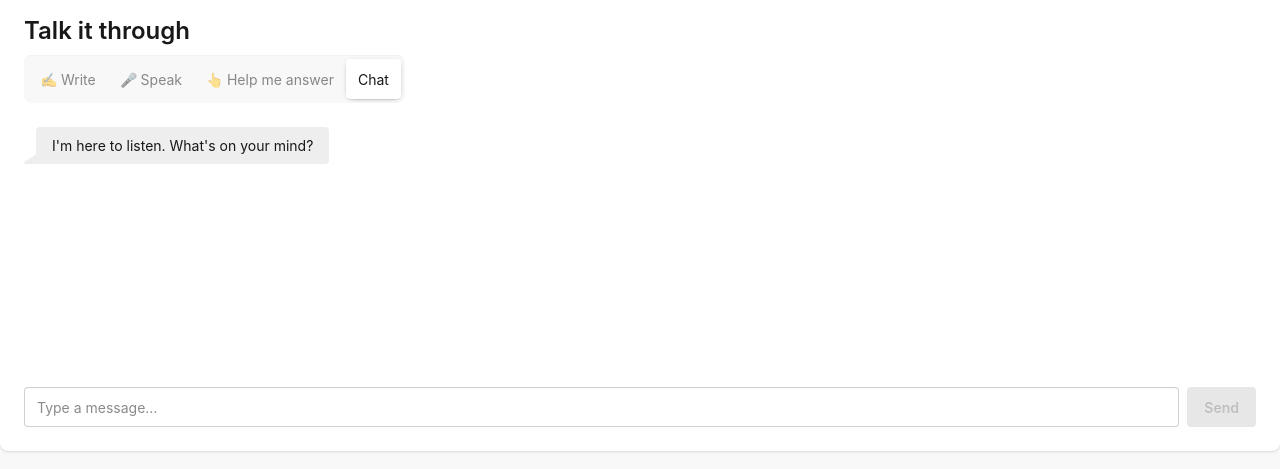
Test: Journal : onglet discussion › ouvre le chat depuis l'URL et envoie les messages au service
Expected: the heading "Talk it through" is shown, [24,16,190,45]
Type "I feel sad" into the field with placeholder "Type a message…". click: (602, 407)
box: [24,387,1179,427]
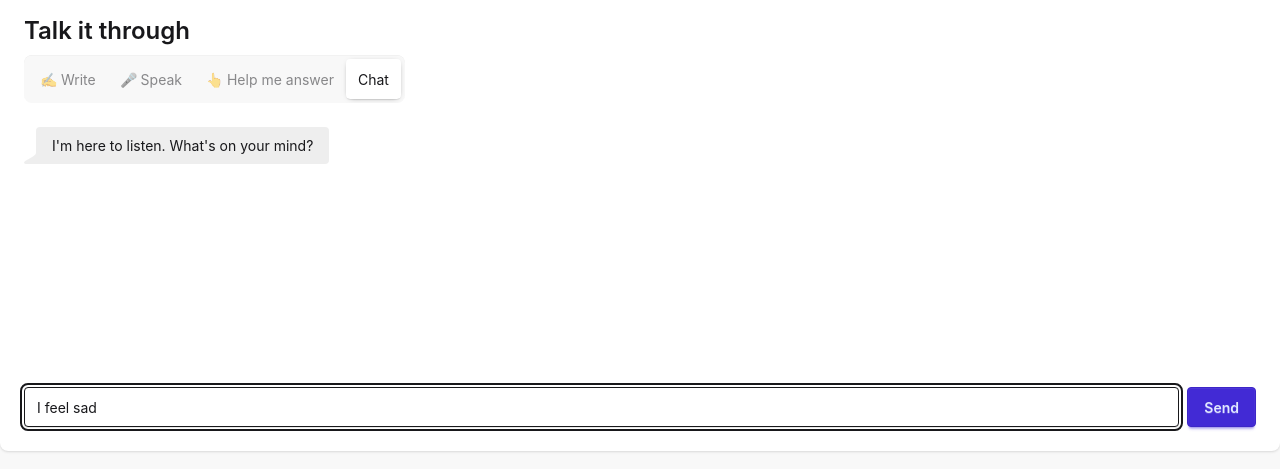
Click the button "Send". click: click(1222, 407)
box: [1187,387,1256,427]
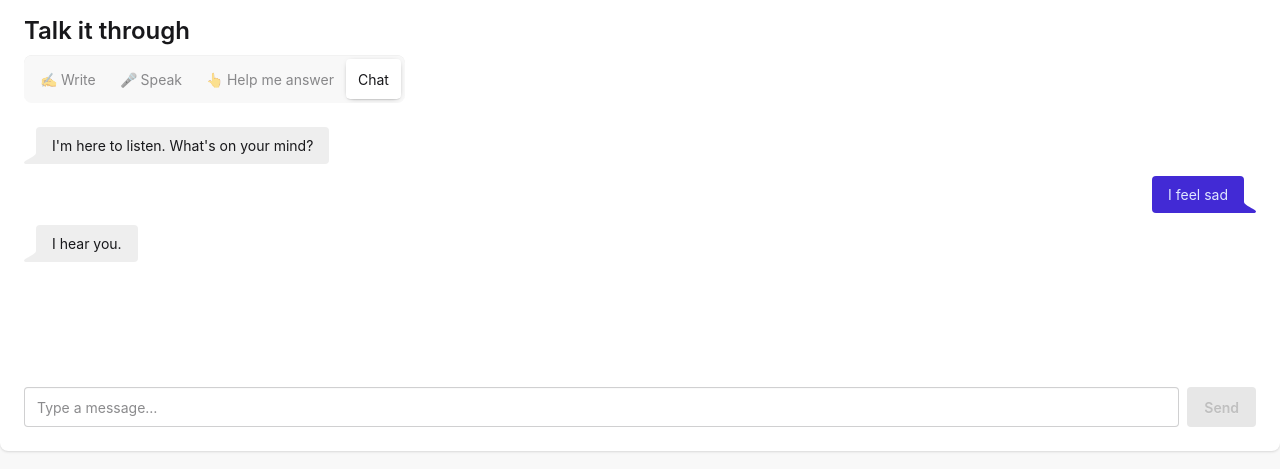
Expected: the text "I hear you." is shown, [36,225,138,262]
